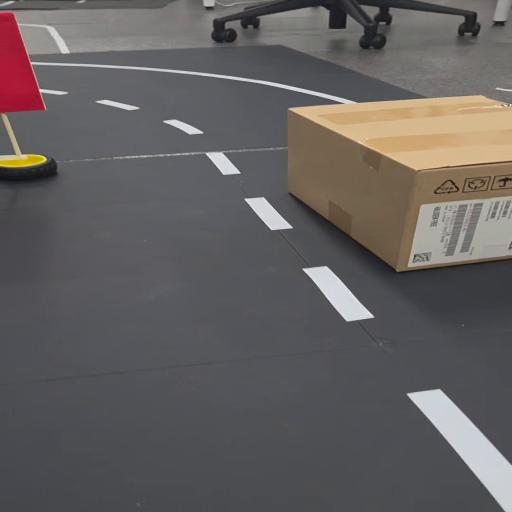Box: (276, 94, 512, 280)
